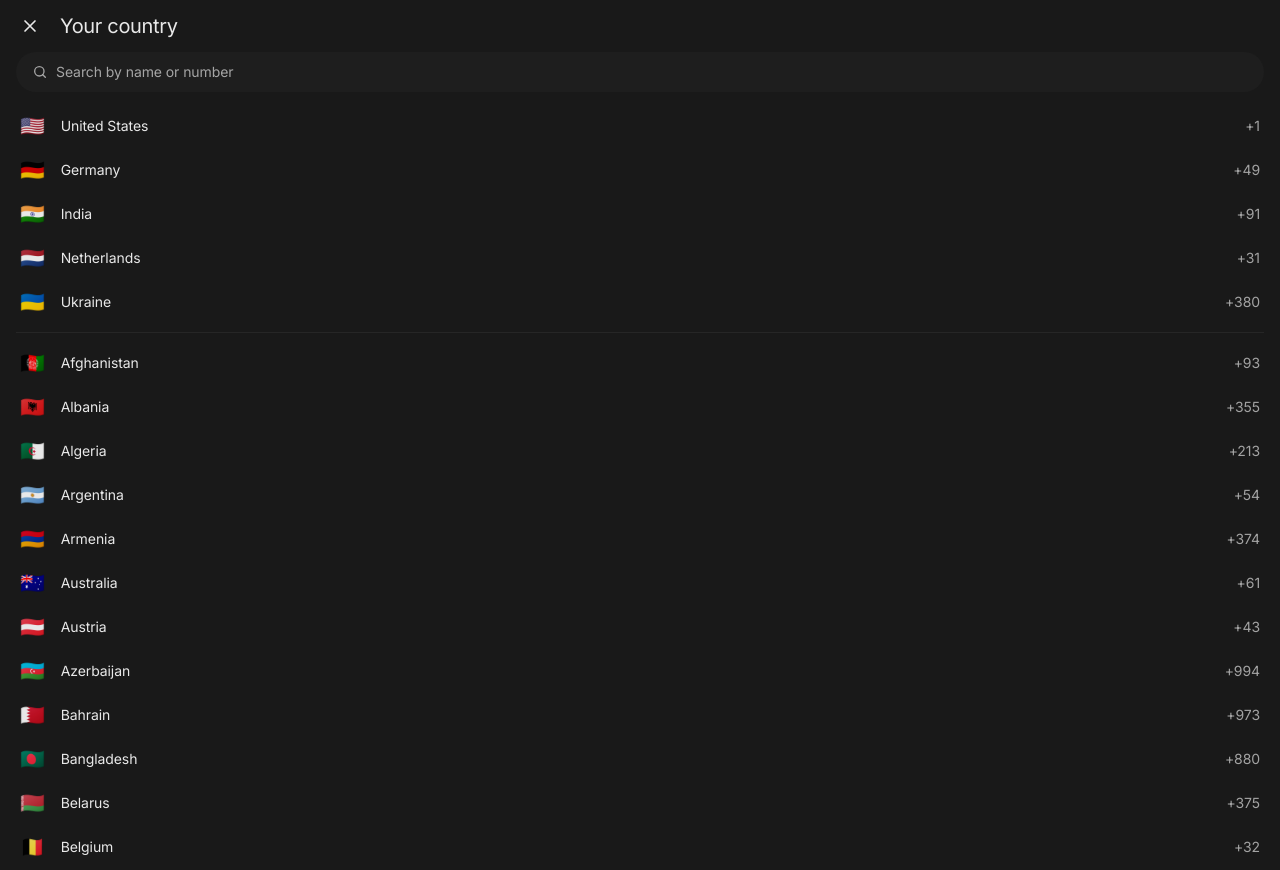
Test: CountryPicker › filters as I search by name
The image size is (1280, 870).
Type "germ" into the field labelled "Search by name or number" at coordinates (652, 72), box [56,62,1248,82]
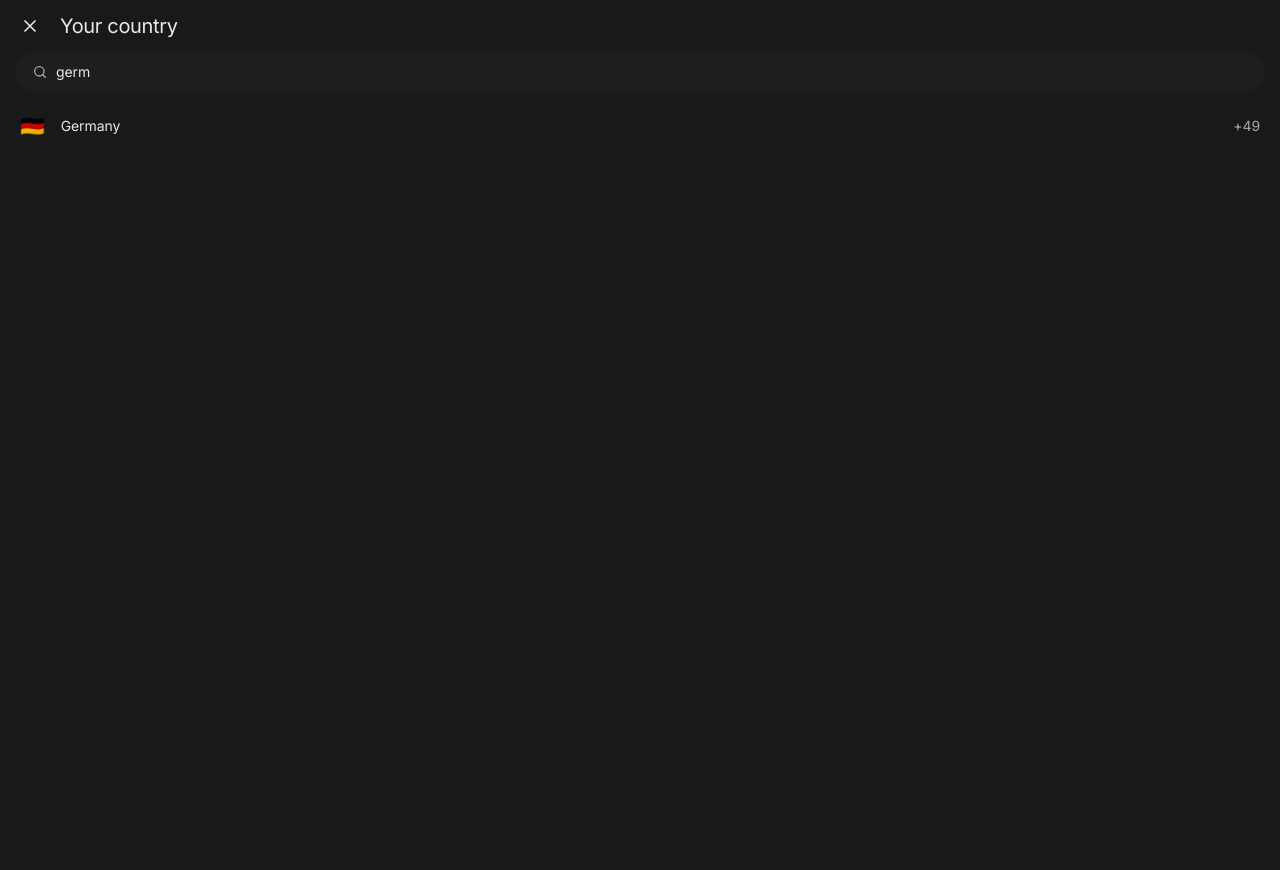
Now the elements with test id "country-name" read "Germany", in this order, box [61,117,120,134]
